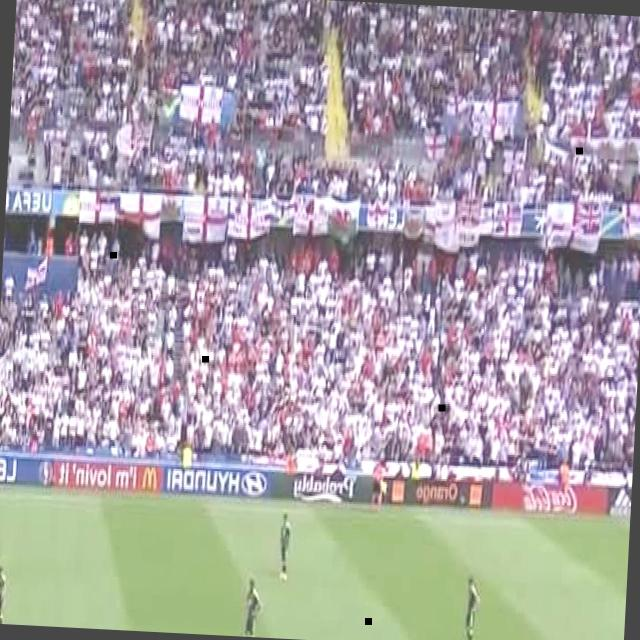player-white: (240, 577, 264, 637), (464, 573, 481, 640), (278, 510, 292, 582), (370, 460, 383, 512), (0, 565, 6, 623)
